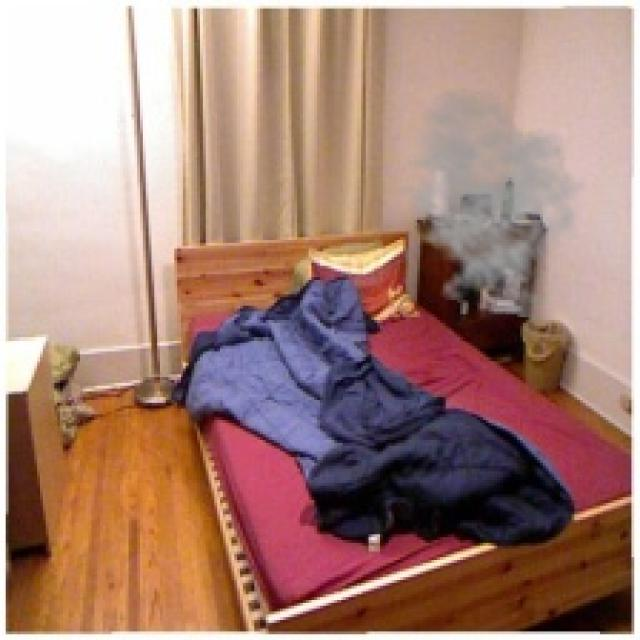smoke: (388, 86, 588, 320)
